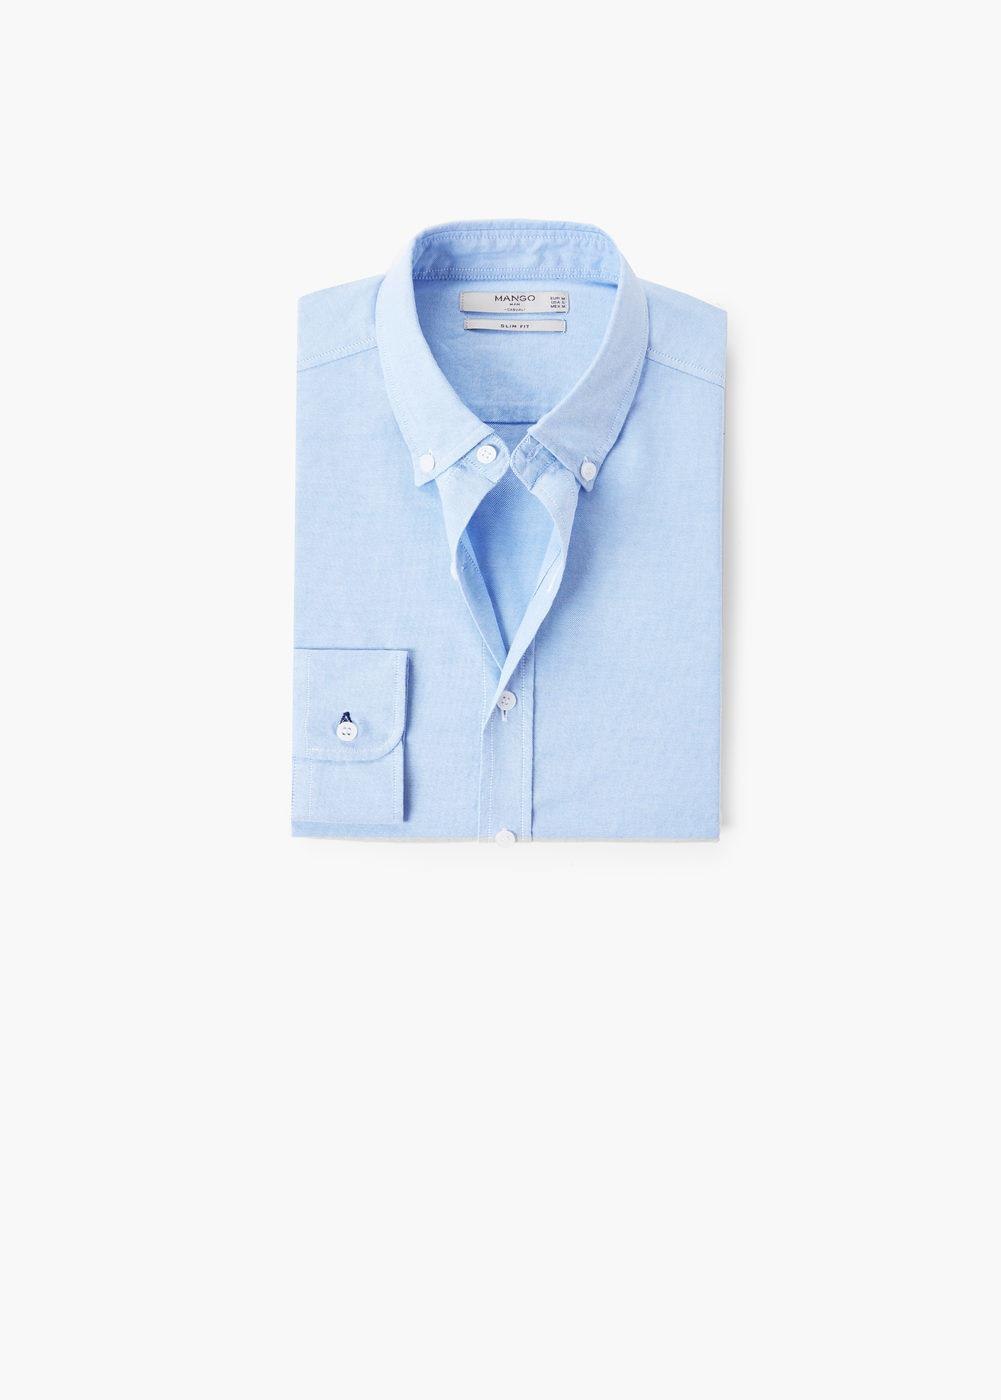teeshirt: (272, 206, 747, 861)
